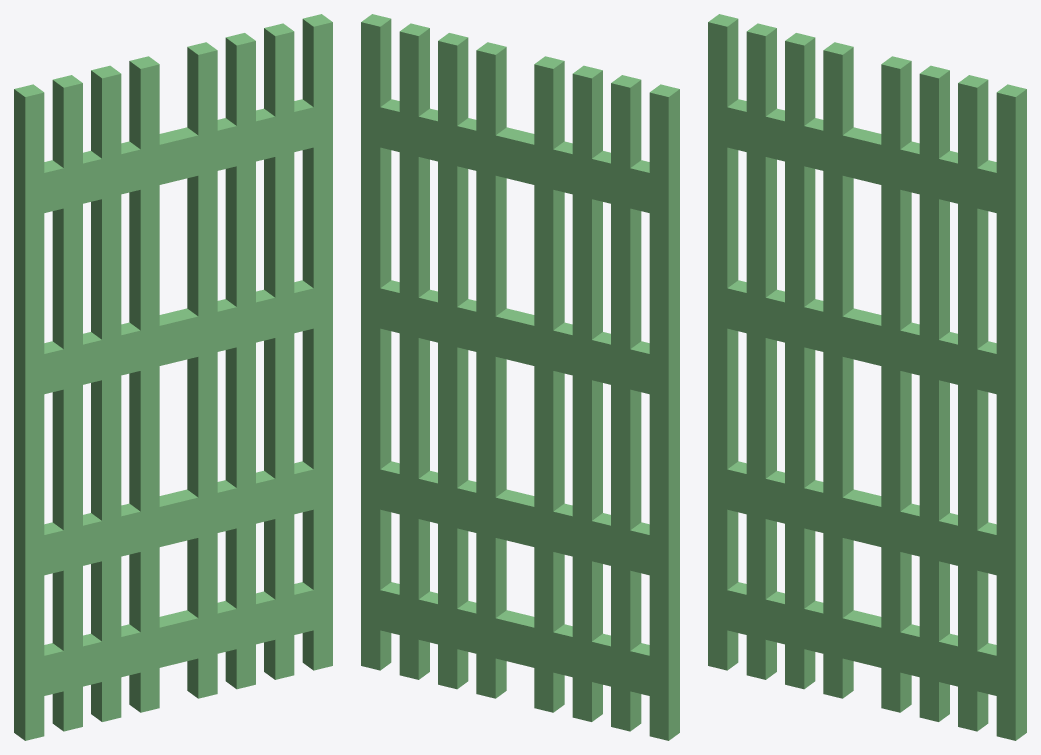
Rendered from Corridor-Door-Green.vox.obj.
The picture shows the model from 3 angles, left to right: view 1: azimuth 30°, elevation 25°; view 2: azimuth 150°, elevation 25°; view 3: azimuth 330°, elevation 25°; orthographic projection.
Size of the model in its own units: 1.6 by 3.2 by 0.1.
Materials: 1 (1 with a texture image).
